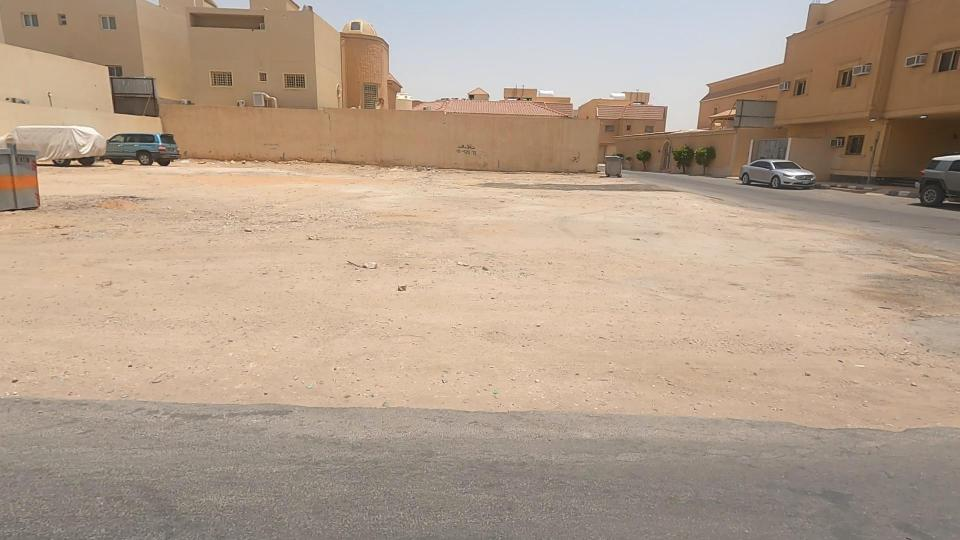GARBAGE: (310, 238, 400, 286), (370, 268, 432, 312)
GRAFFITI: (420, 118, 514, 180), (546, 129, 601, 189)
